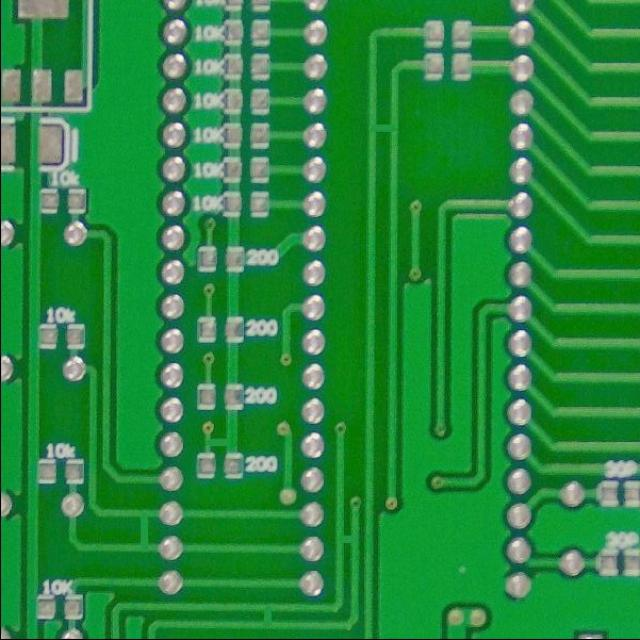Short_Circuit: (124, 502, 160, 559), (250, 597, 286, 638), (361, 112, 405, 144), (198, 430, 243, 454), (330, 525, 363, 552)
